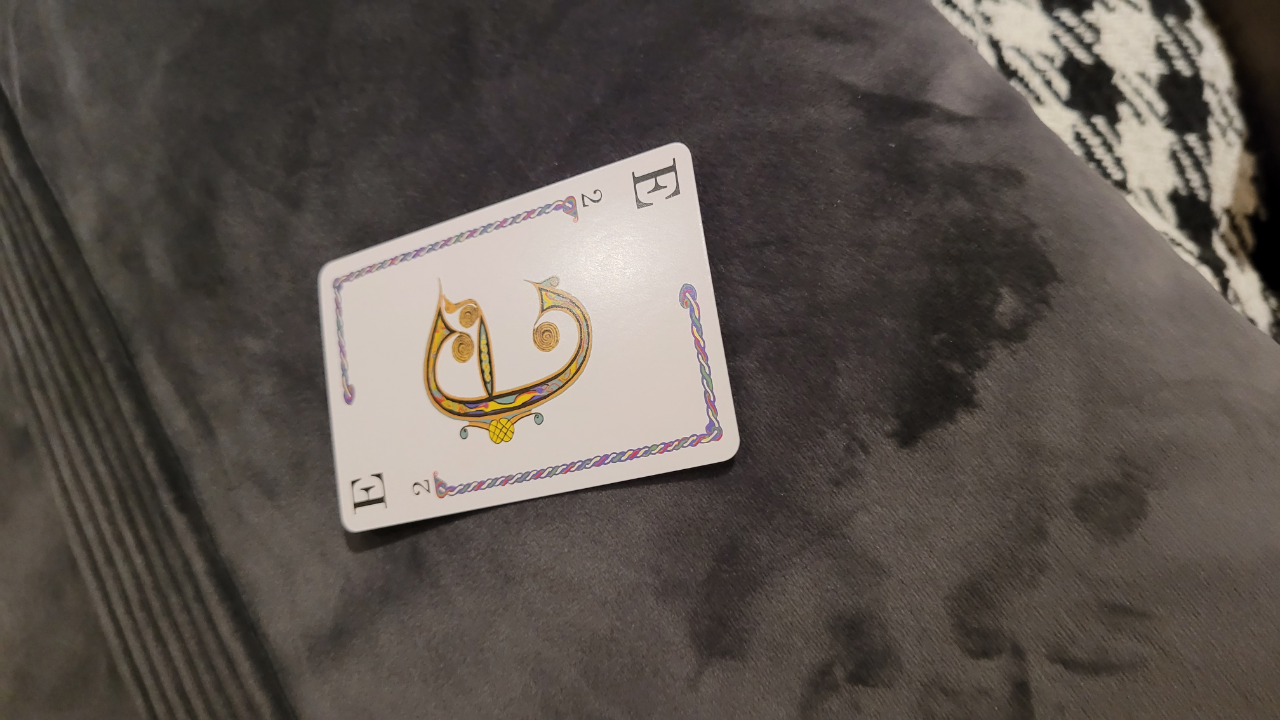quiddler_card: (298, 133, 768, 555)
